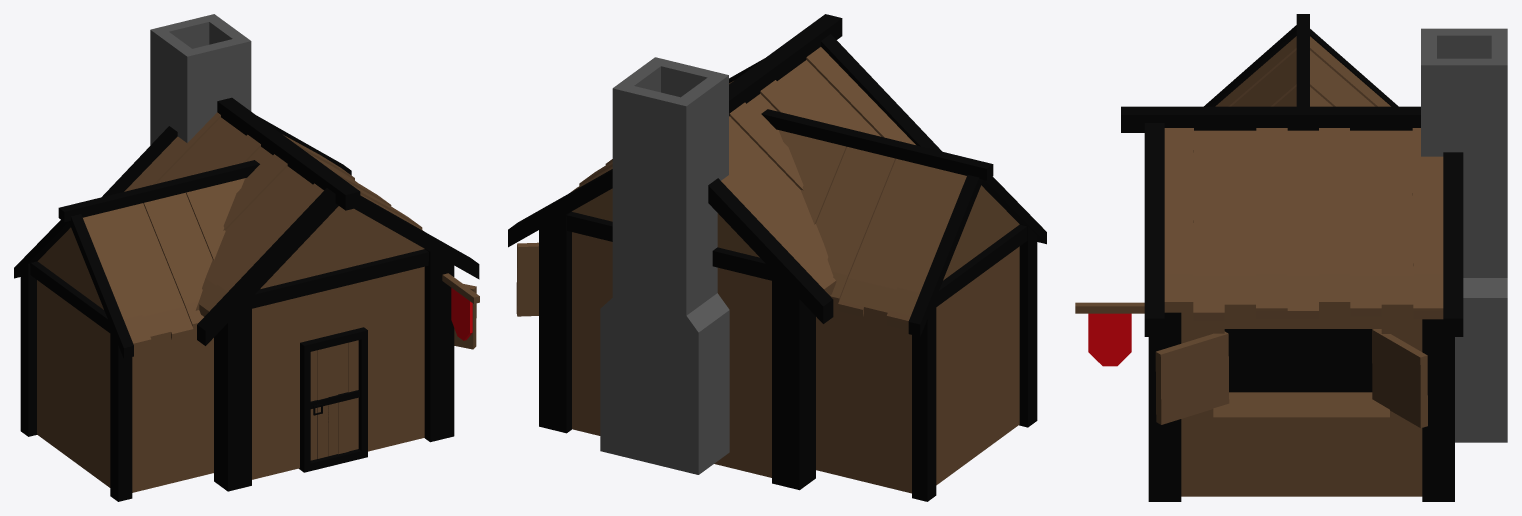
File: 01_com_small_var1.fbx
3 views of the same model, side by side, from view 1: azimuth 30°, elevation 25°; view 2: azimuth 150°, elevation 25°; view 3: azimuth 270°, elevation 25° (orthographic). The views are drawn at different scales.
Parts seen in each view (by area): view 1: Cube; view 2: Cube; view 3: Cube.
Boxes of the visible parts, bbox=[...] form: Cube: bbox=[14, 14, 479, 501]; Cube: bbox=[508, 14, 1046, 501]; Cube: bbox=[1075, 14, 1507, 501].
Bounding box in the file's own units: 63.36 × 55.74 × 56.24.
